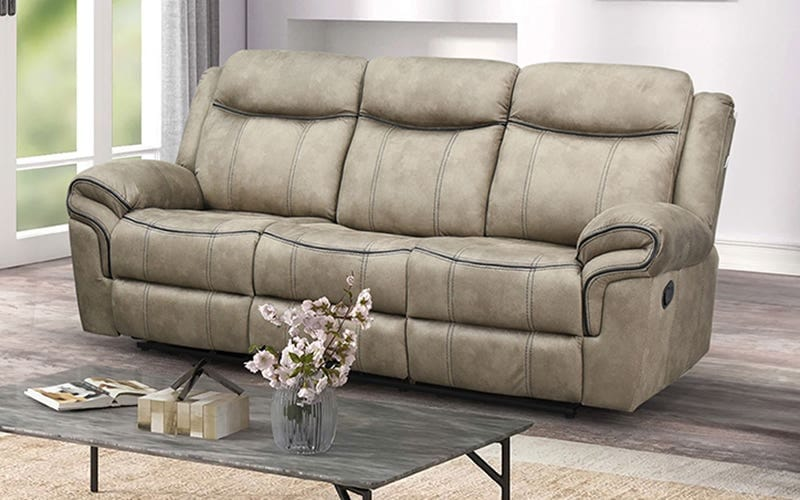3seatersofa: (68, 50, 734, 410)
backrest: (198, 52, 691, 243)
base: (353, 312, 582, 401), (111, 280, 297, 352)
leftarmrest: (577, 93, 734, 410)
leg: (67, 50, 734, 410), (351, 374, 580, 418), (136, 338, 243, 363)
rightarmrest: (68, 68, 220, 334)
seat: (111, 208, 581, 333)
